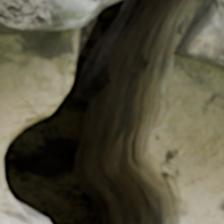broken_brick: (172, 0, 223, 71), (0, 0, 92, 35), (0, 213, 30, 223), (82, 0, 97, 4)
crack: (0, 0, 222, 223)
